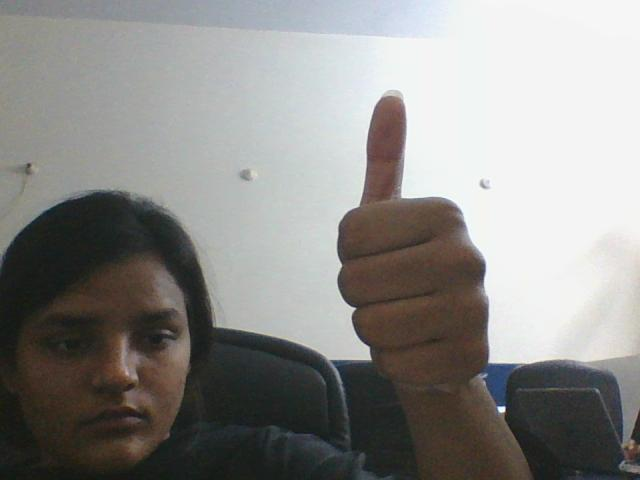thumbs-up: (318, 79, 497, 390)
